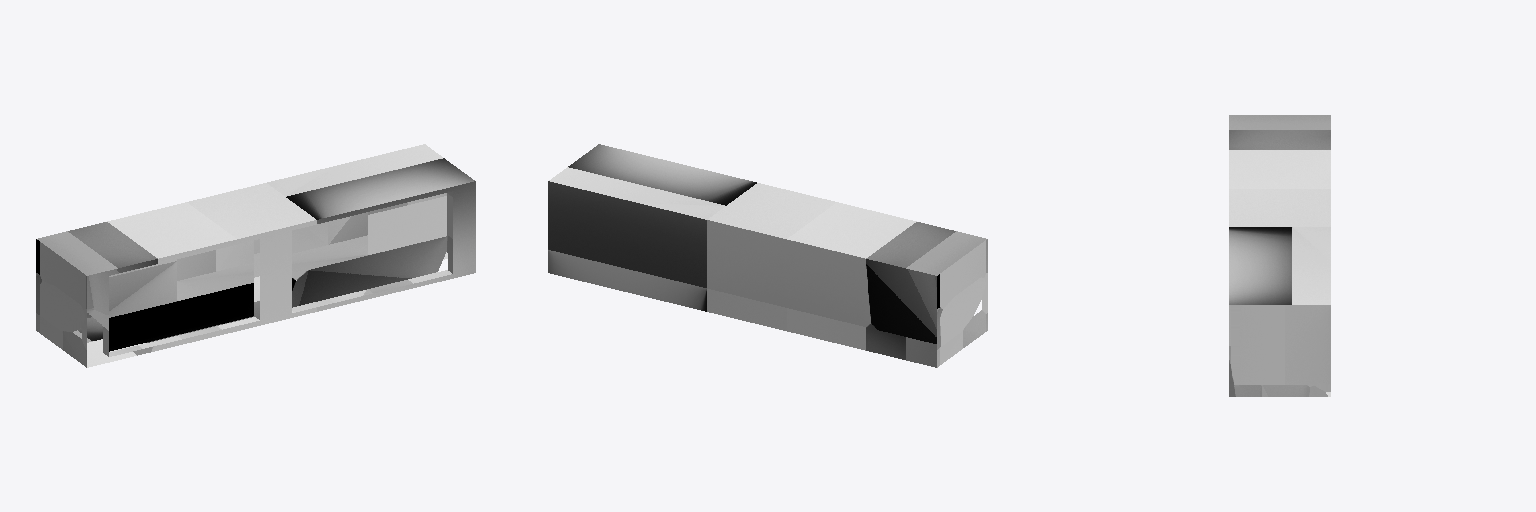
3 views of the same model, side by side, from view 1: azimuth 30°, elevation 25°; view 2: azimuth 150°, elevation 25°; view 3: azimuth 270°, elevation 25° (orthographic).
Parts seen in each view (by area): view 1: Cube.005_Cube.014; view 2: Cube.005_Cube.014; view 3: Cube.005_Cube.014.
Part boxes in pixels (x1,y1,x2,y2): Cube.005_Cube.014: (36,144,475,367); Cube.005_Cube.014: (548,144,987,367); Cube.005_Cube.014: (1229,115,1330,396).
Size of the model in its own units: 4.04 by 0.9144 by 0.9144.
1 materials, 1 textured.